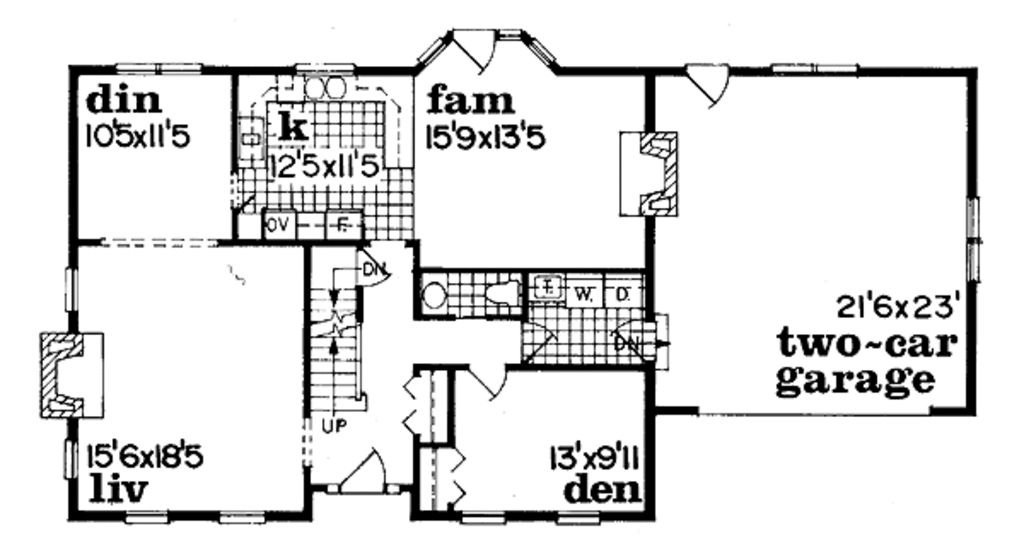door: (448, 27, 499, 71), (340, 452, 385, 499), (461, 362, 510, 401), (685, 65, 728, 105)
large_sink: (482, 275, 520, 310)
small_sink: (416, 274, 452, 322)
stairs: (306, 241, 369, 433)
windows: (763, 60, 861, 82), (108, 58, 201, 78), (963, 195, 983, 282), (293, 57, 362, 80), (216, 507, 270, 528), (61, 265, 81, 313), (553, 508, 601, 528), (117, 507, 167, 526), (461, 509, 512, 526)
